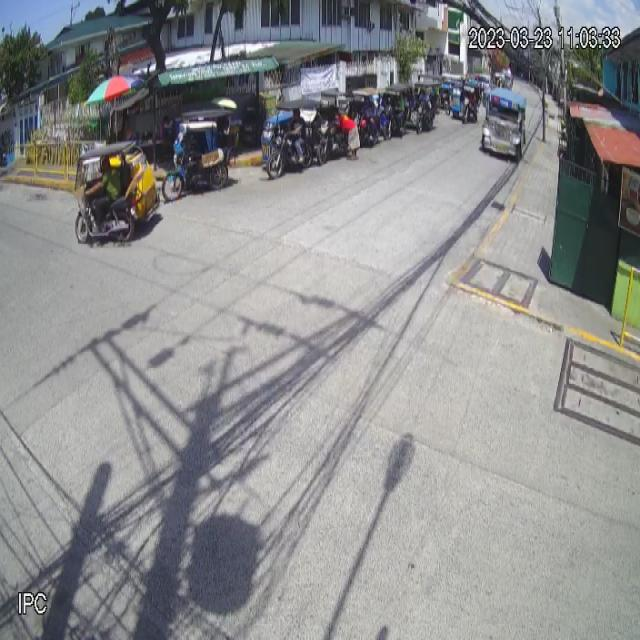Jeep: (480, 86, 528, 164)
Tricycle: (73, 142, 161, 249)
